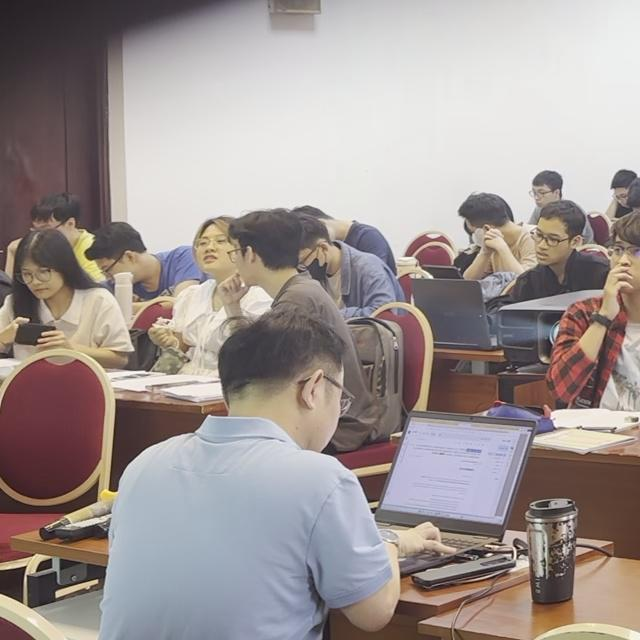Looking away: (231, 233, 262, 294), (530, 223, 567, 261), (461, 208, 493, 243), (528, 185, 552, 211)
Phone use: (20, 262, 61, 298)
